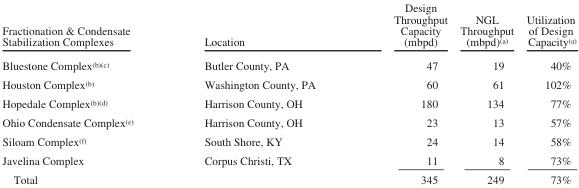table: (1, 1, 575, 185)
table column: (168, 1, 354, 185), (1, 1, 168, 185), (354, 1, 453, 185), (453, 1, 519, 185), (519, 1, 575, 185)
table column header: (1, 1, 575, 53)
table row: (1, 1, 575, 53), (1, 53, 575, 74), (1, 74, 575, 93), (1, 93, 575, 112), (1, 112, 575, 131), (1, 131, 575, 150), (1, 150, 575, 169), (1, 169, 575, 185)
